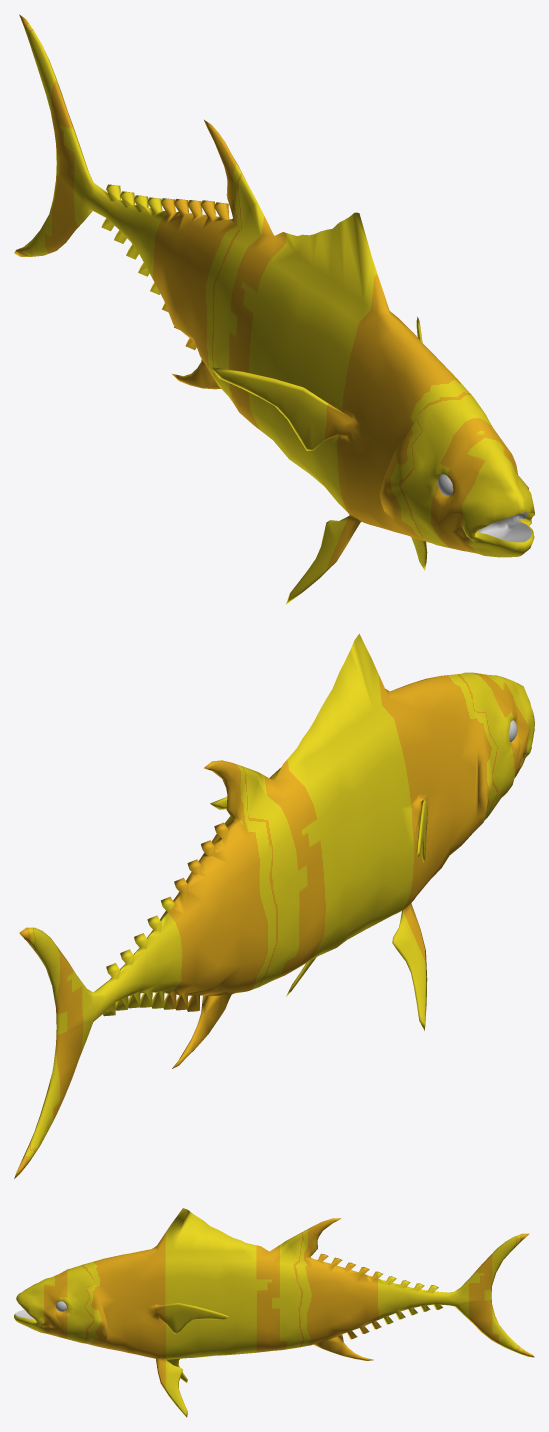
File: tuna.obj
3 views of the same model, one above another, from view 1: azimuth 30°, elevation 25°; view 2: azimuth 150°, elevation 25°; view 3: azimuth 270°, elevation 25° (orthographic). The views are drawn at different scales.
Visible parts, largest first — view 1: tna_body, tna_mouth; view 2: tna_body; view 3: tna_body.
Part boxes in pixels (bbox=[...]): tna_body: bbox=[14, 14, 534, 604]; tna_mouth: bbox=[477, 512, 531, 542]; tna_body: bbox=[14, 633, 534, 1178]; tna_body: bbox=[14, 1208, 534, 1417].
Bounding box in the file's own units: 0.9272 × 1.61 × 3.95.
